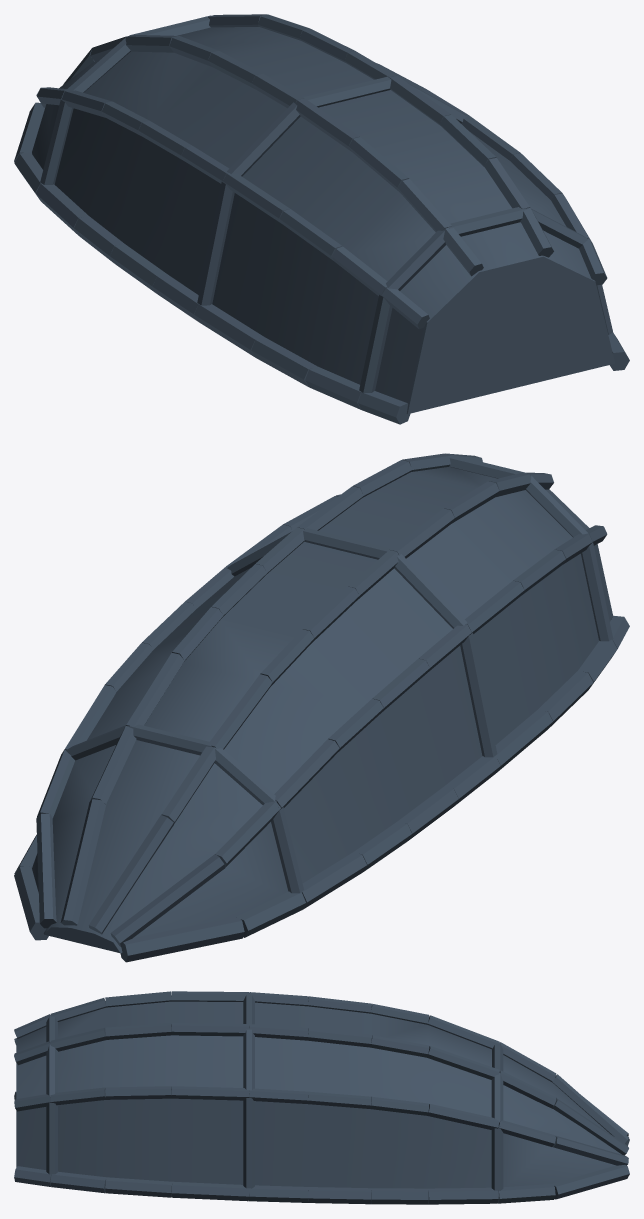
File: Cabina2.fbx
3 renders of one model, top to bottom at view 1: azimuth 30°, elevation 25°; view 2: azimuth 150°, elevation 25°; view 3: azimuth 270°, elevation 25°, orthographic. The views are drawn at different scales.
Visible parts, largest first — view 1: Cabina2; view 2: Cabina2; view 3: Cabina2.
Boxes of the visible parts, bbox=[...] form: Cabina2: bbox=[14, 14, 629, 424]; Cabina2: bbox=[14, 453, 629, 962]; Cabina2: bbox=[14, 991, 629, 1204].
Bounding box in the file's own units: 281 × 191 × 688.
